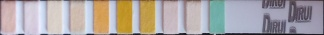color 1: (2, 2, 14, 31)
color 10: (211, 2, 223, 32)
color 2: (25, 3, 37, 33)
color 3: (48, 2, 61, 32)
color 4: (71, 2, 83, 32)
color 5: (95, 2, 107, 32)
color 6: (118, 2, 131, 32)
color 7: (141, 2, 153, 33)
color 8: (164, 2, 176, 32)
color 9: (187, 3, 199, 32)
